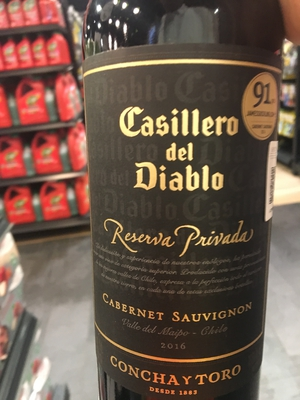casillero del diablo reserva privada cabernet sauvignon: (77, 6, 282, 400)
